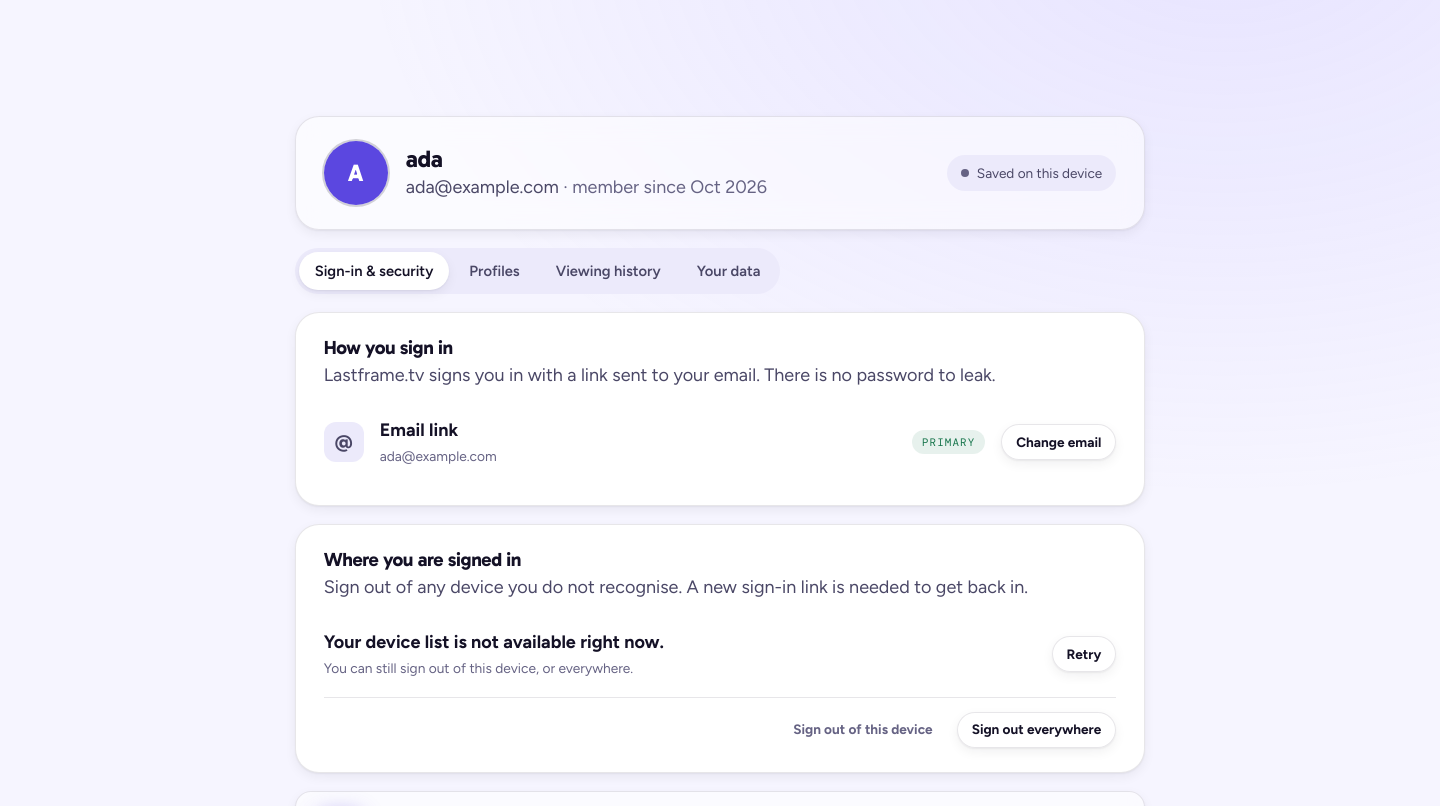
Test: AccountPage: signed in › retries a failed device load
Click the button "Retry": {"x": 1084, "y": 654} [1052,636,1116,672]
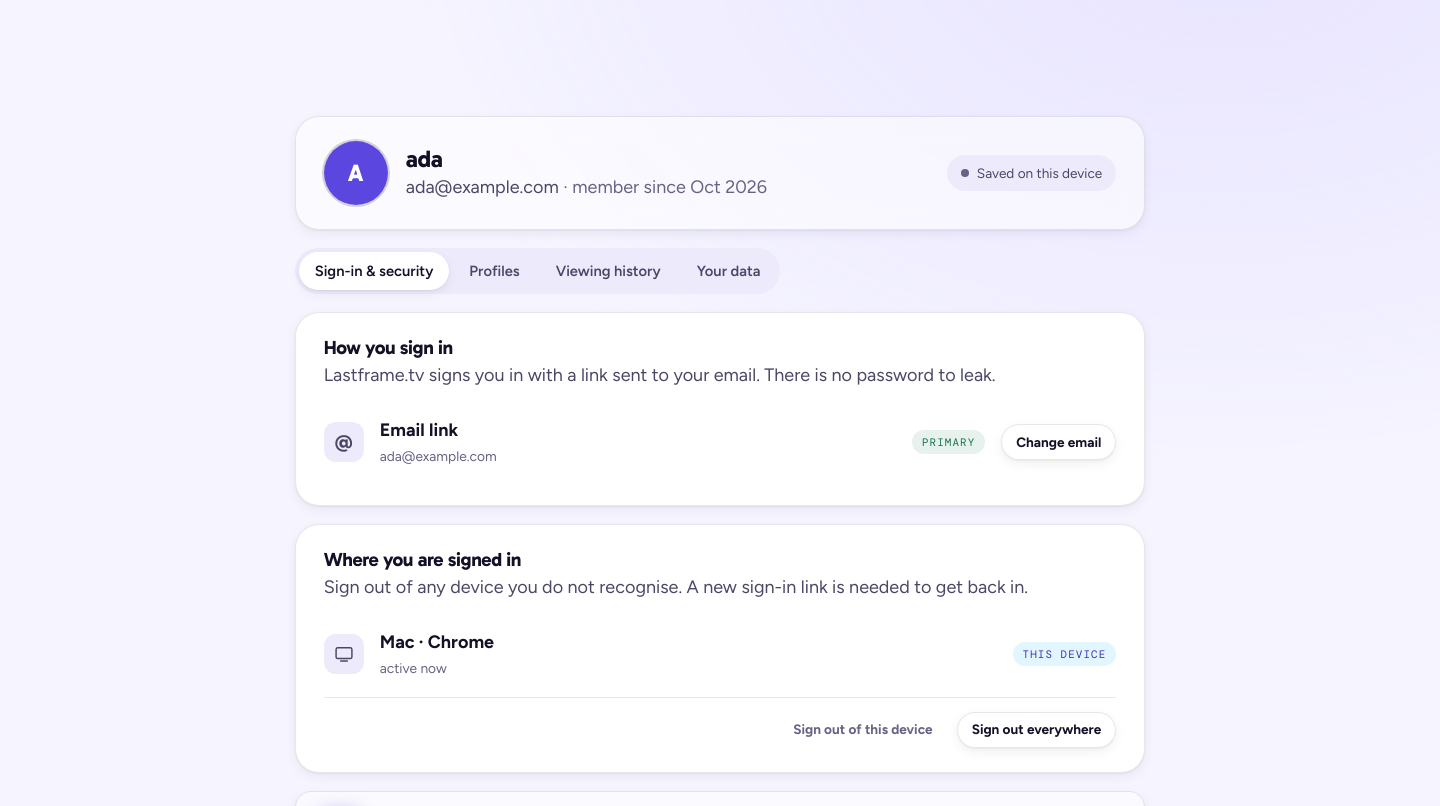
Expected: the list named "Signed-in devices" is shown, [324,631,1116,676]
Expected: the text "device list is not available" is gone
